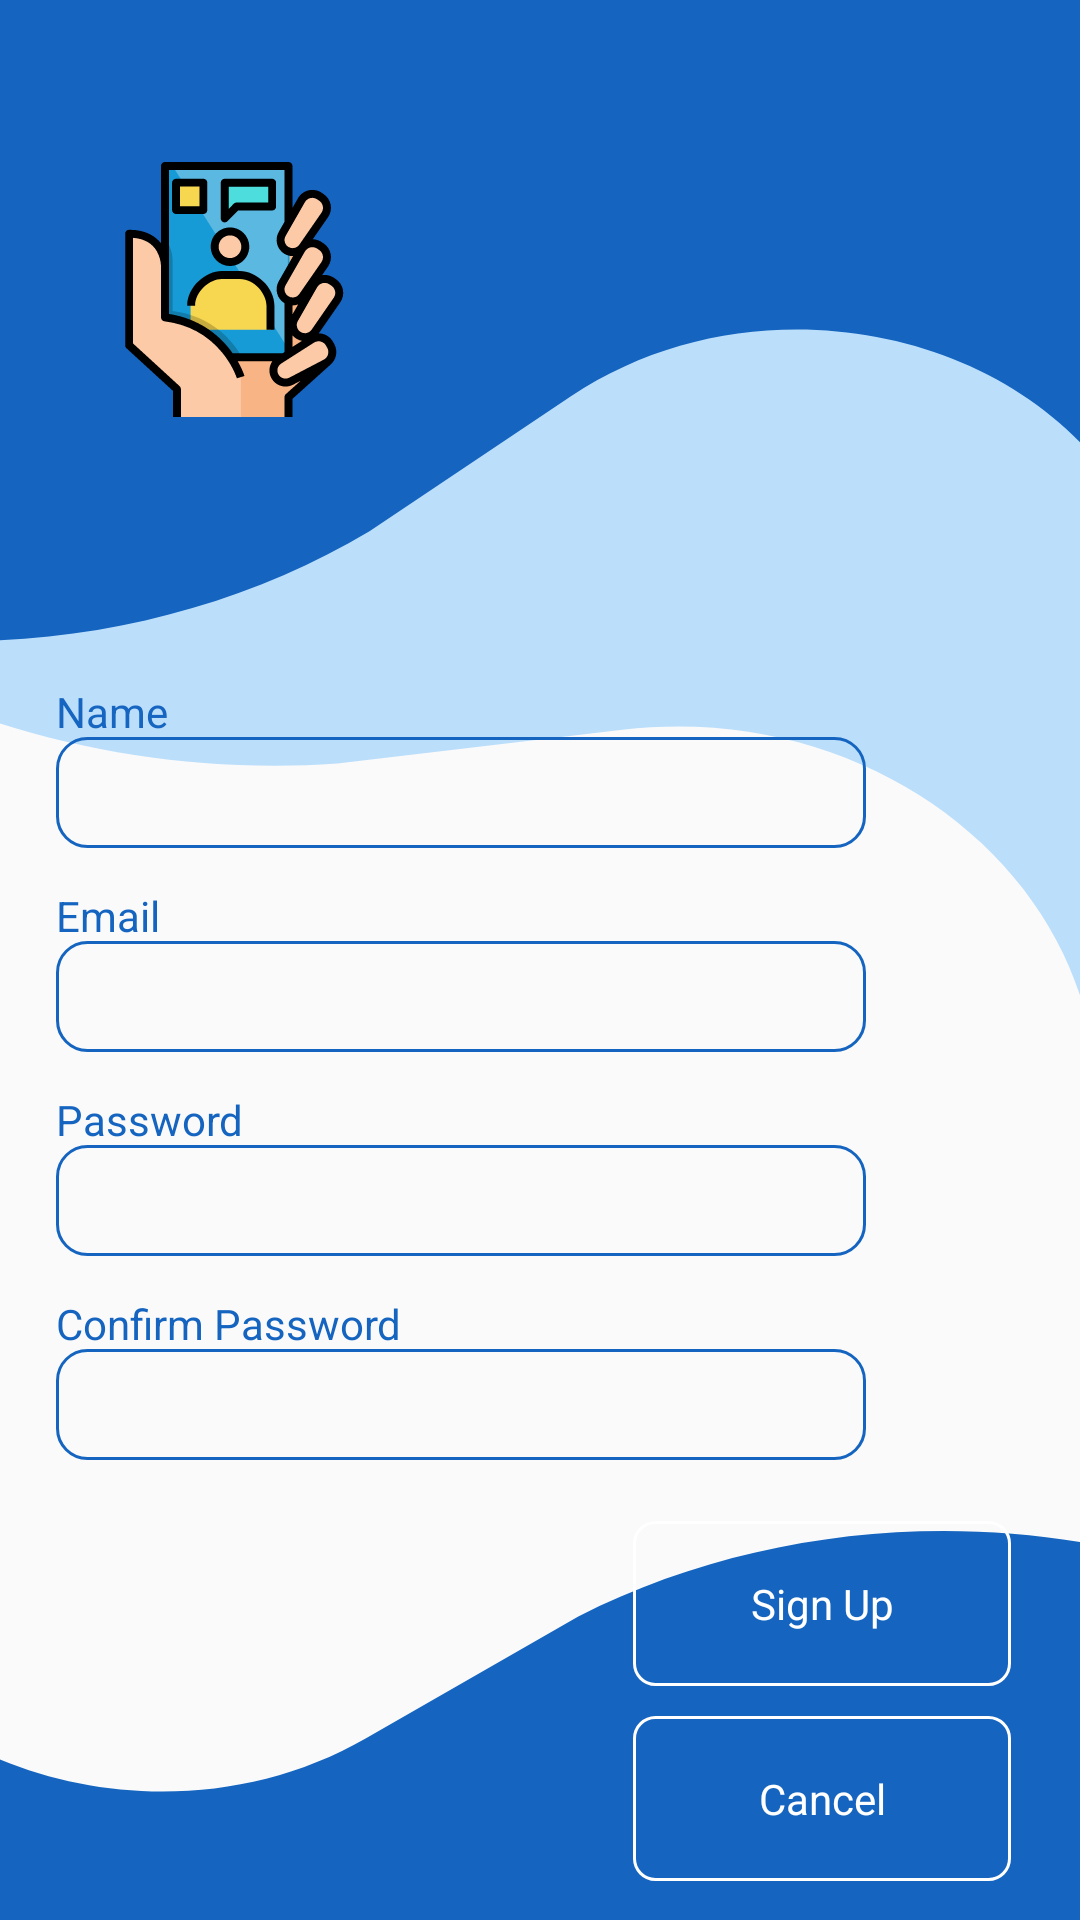

Icon click points for this 1080×1920 phone screenshot, format [x,y]:
video calling: [234,289]
